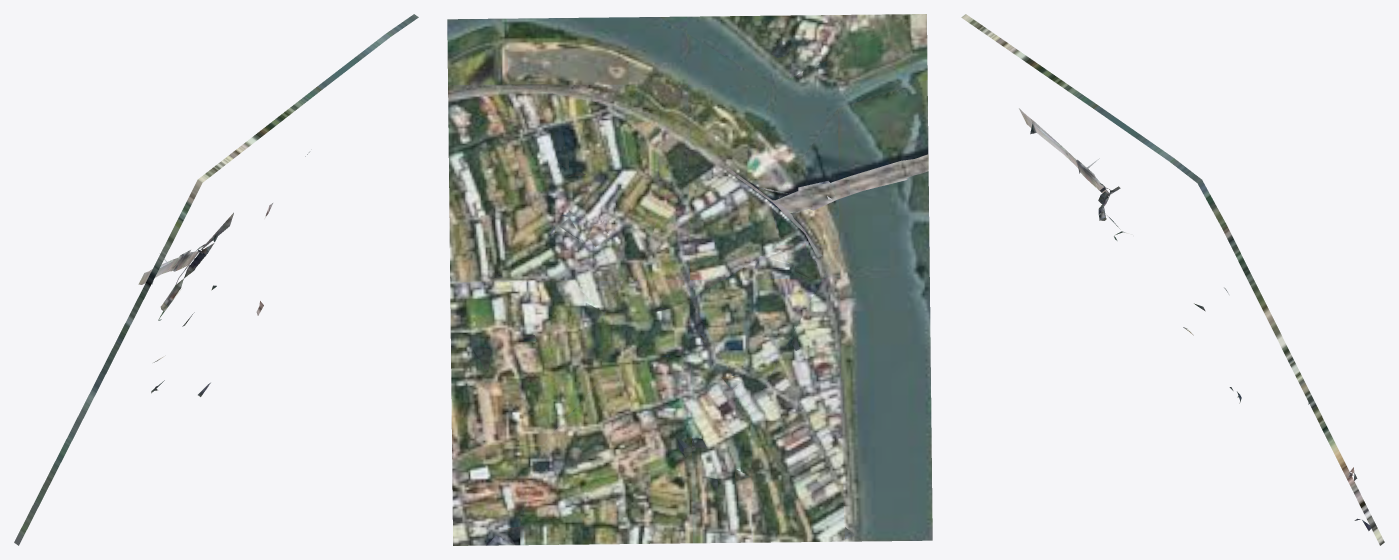
The picture shows the model from 3 angles, left to right: view 1: azimuth 30°, elevation 25°; view 2: azimuth 150°, elevation 25°; view 3: azimuth 270°, elevation 25°; orthographic projection. The views are drawn at different scales.
Bounding box in the file's own units: 1225 × 1109 × 1031.
Materials: 1 (1 with a texture image).
